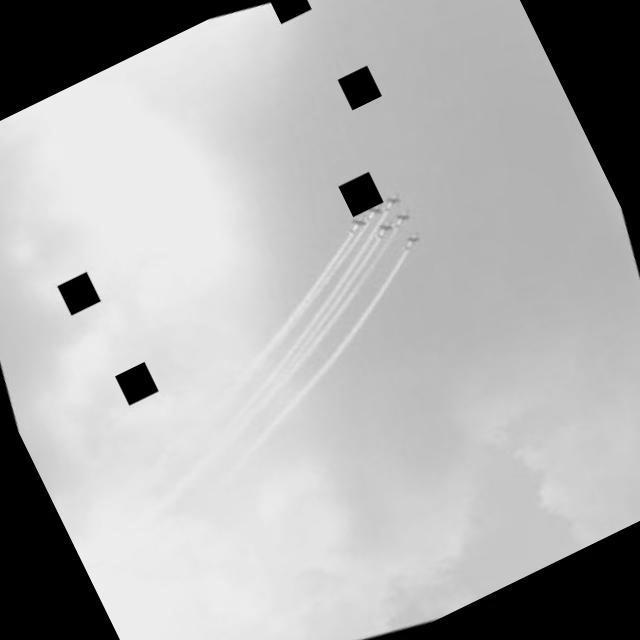aeroplane: (383, 204, 418, 239), (395, 226, 430, 260), (344, 211, 372, 237), (382, 184, 408, 209), (370, 221, 395, 244), (365, 198, 390, 220)
